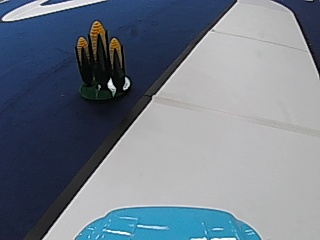corn: (71, 17, 134, 99)
